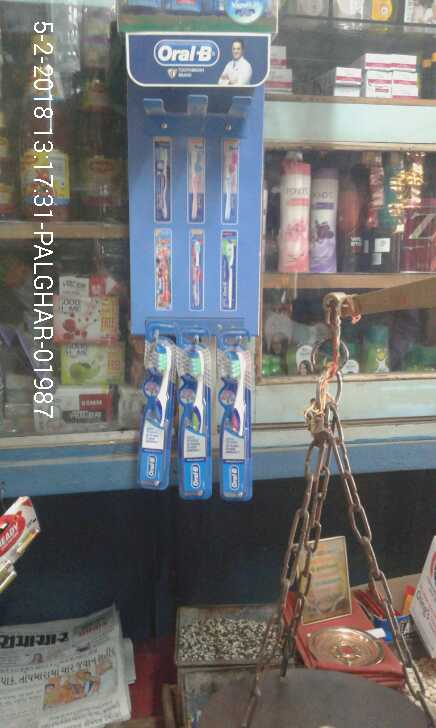oralb: (210, 341, 260, 504), (127, 340, 173, 490), (171, 347, 209, 496)
